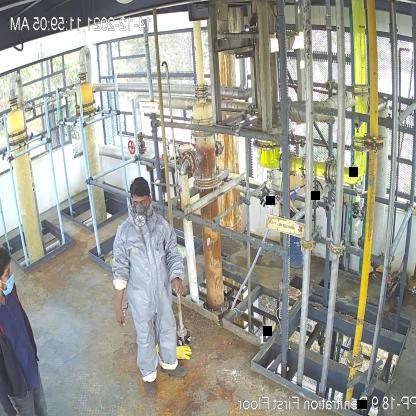mask: (130, 204, 148, 228)
no_glove: (114, 288, 125, 329), (172, 276, 186, 298)
no_goggles: (132, 196, 147, 206)
